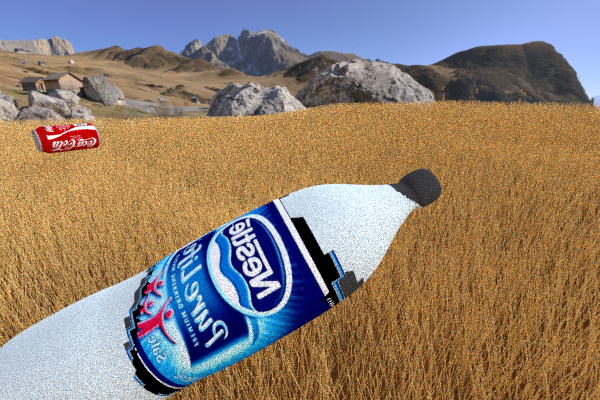Plastic Bottle: (0, 168, 441, 400), (572, 242, 600, 400), (31, 123, 100, 153)
